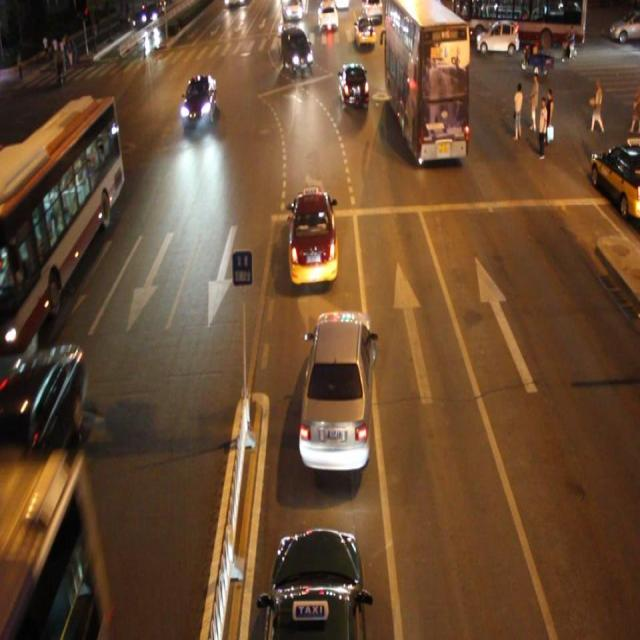car: (1, 343, 85, 494), (298, 308, 374, 469), (260, 526, 367, 640), (287, 188, 339, 284), (26, 129, 61, 191), (179, 75, 217, 125), (280, 28, 314, 75), (338, 62, 369, 109)
van: (1, 98, 123, 357), (0, 464, 107, 640), (384, 1, 468, 159)
